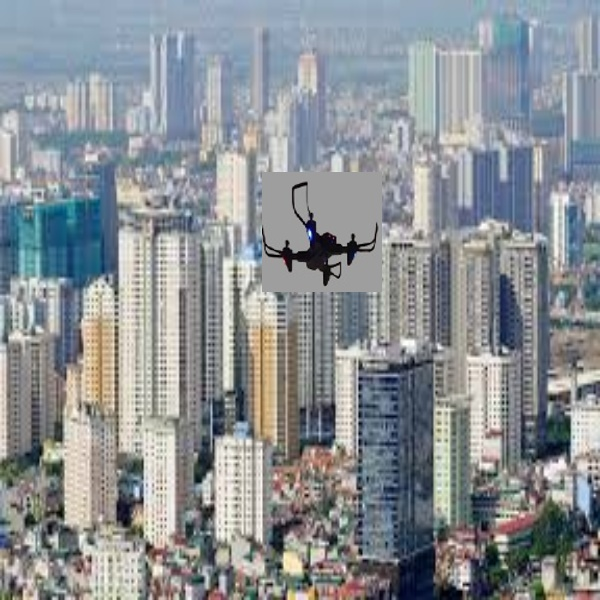drone: (256, 179, 383, 284)
